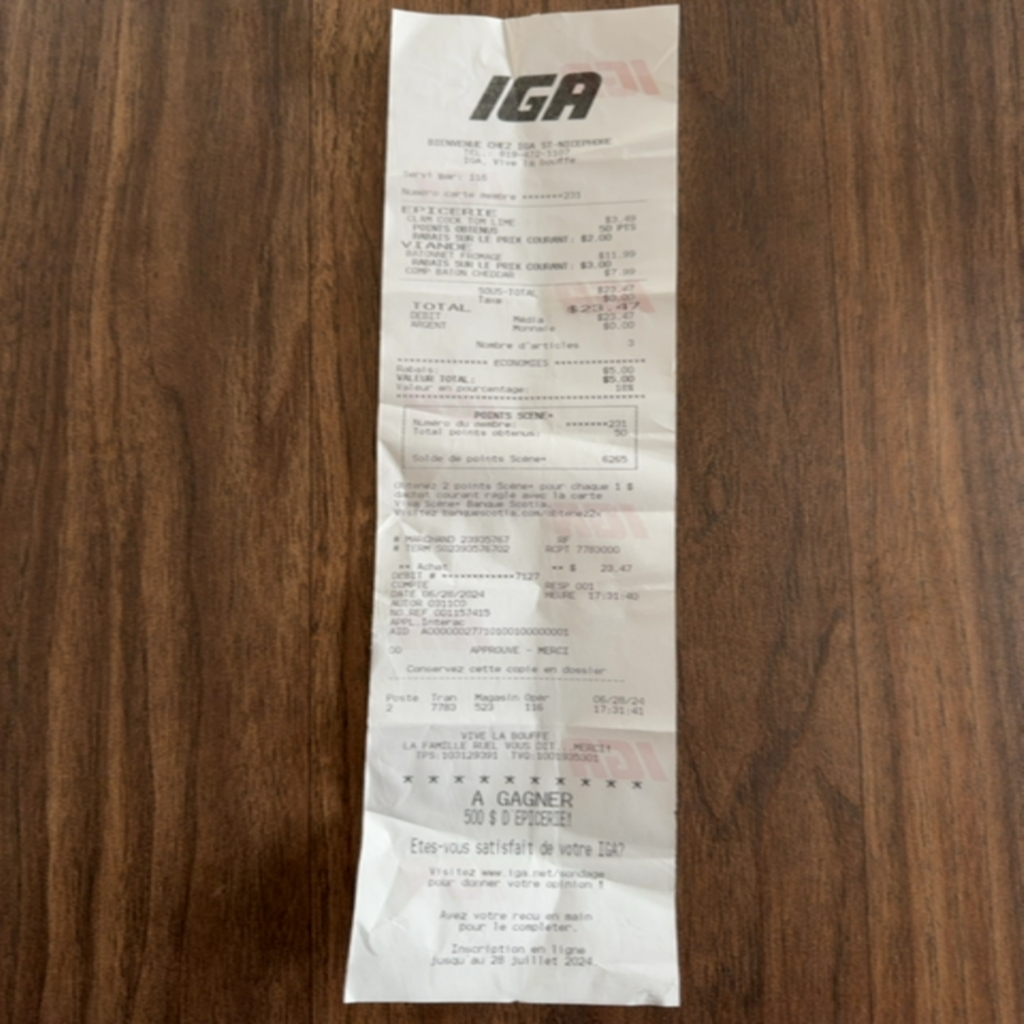recipt: (336, 4, 682, 1007)
